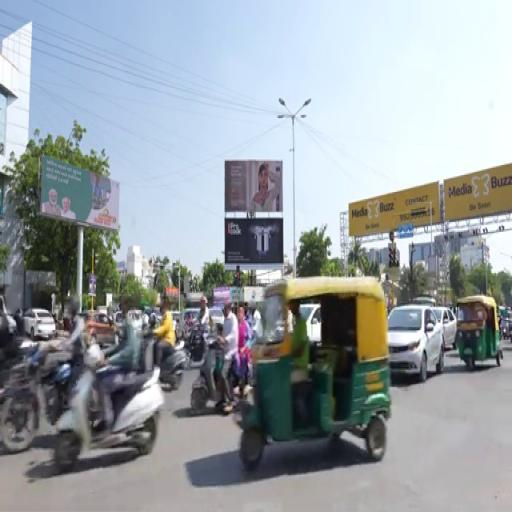Car: (388, 305, 444, 382), (24, 309, 57, 341), (86, 312, 116, 347), (434, 308, 457, 351), (300, 303, 321, 344), (182, 308, 199, 325), (7, 313, 19, 337), (128, 311, 142, 331), (210, 306, 223, 324), (171, 311, 180, 331)
